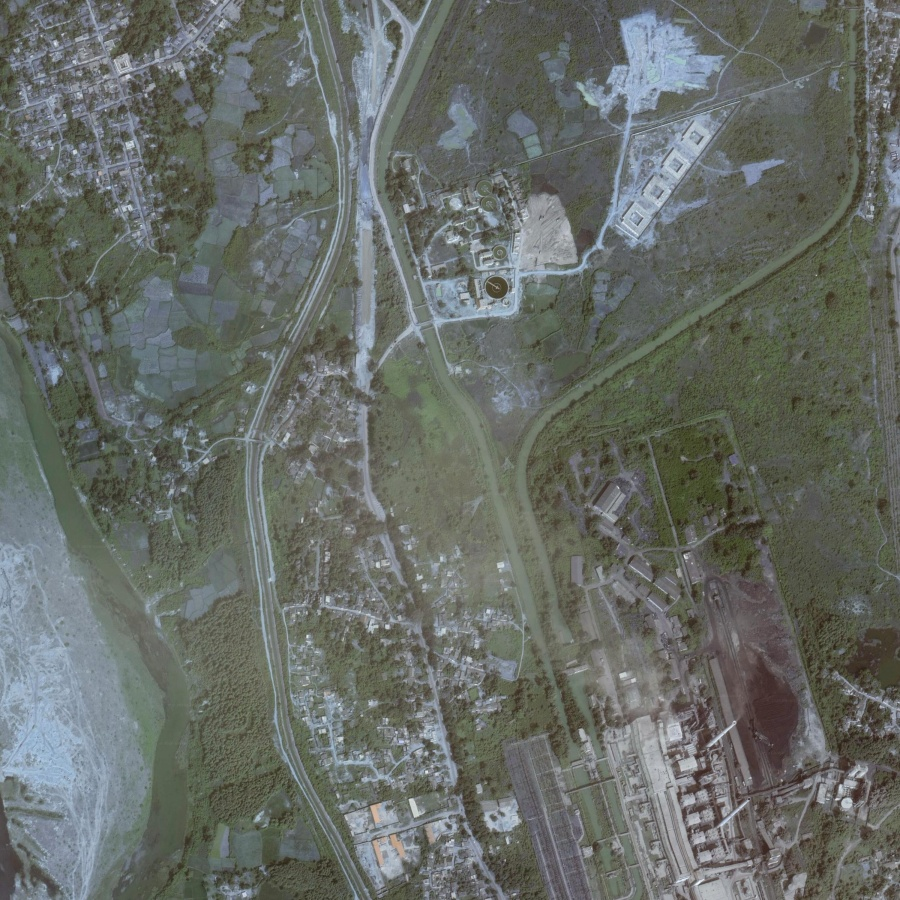PowerPlant: (612, 565, 809, 862)
